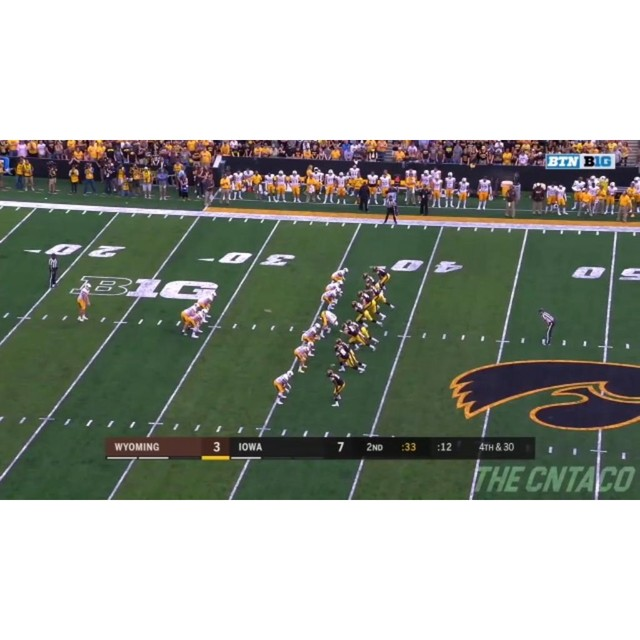american-football-player: (333, 338, 367, 374), (364, 275, 396, 311), (342, 320, 377, 352), (358, 288, 385, 325), (178, 301, 204, 339), (194, 288, 218, 324), (325, 368, 346, 408), (291, 341, 315, 374), (273, 369, 295, 404), (75, 278, 92, 321), (299, 321, 323, 351), (370, 264, 391, 288), (328, 267, 350, 288)
referee: (538, 308, 556, 346), (48, 254, 60, 288)
